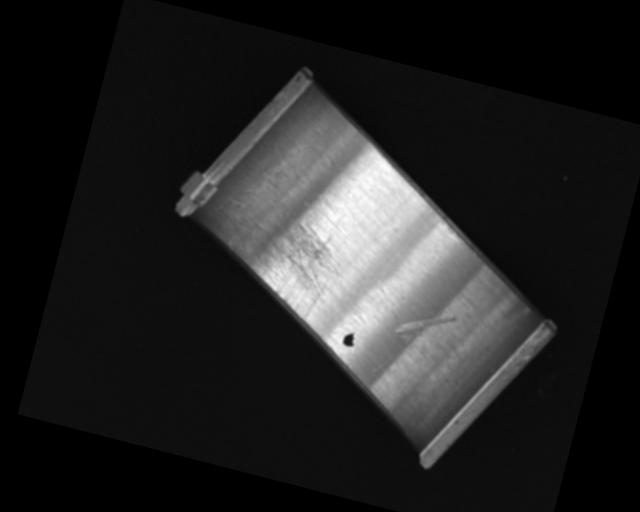blot: (341, 329, 356, 349)
nick: (391, 302, 457, 354), (368, 305, 407, 378)
scratch: (222, 206, 352, 328)
